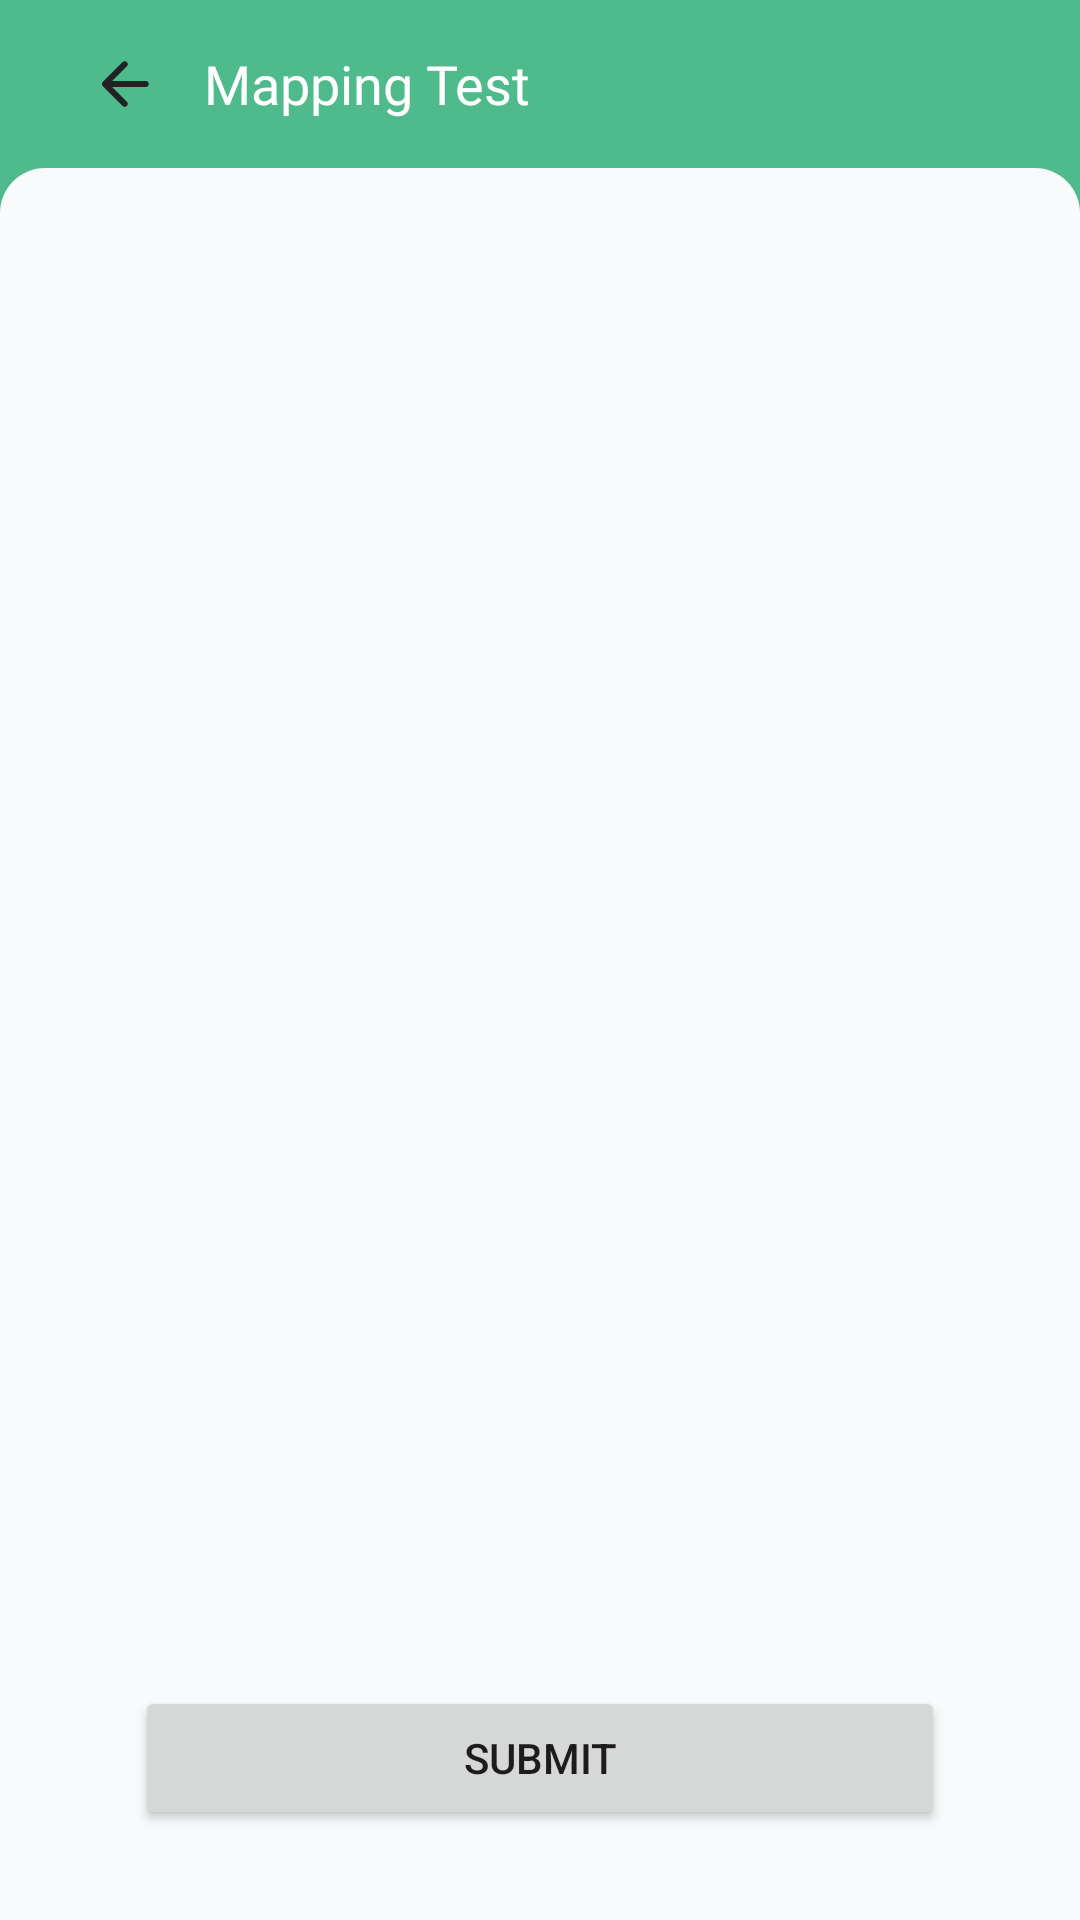

Where to tap for icons on this 1080*1920 app screen, as [x,y]:
arrow left: [125,84]
